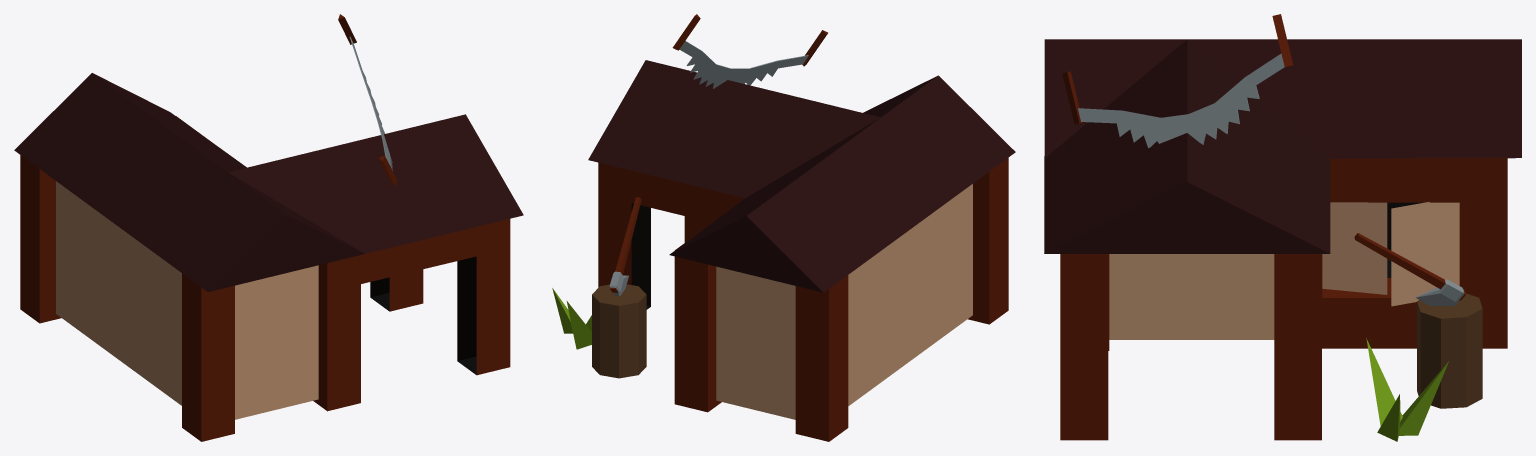
The model's file is Human-SuperSawmill.fbx.
3 views of the same model, side by side, from view 1: azimuth 30°, elevation 25°; view 2: azimuth 150°, elevation 25°; view 3: azimuth 270°, elevation 25° (orthographic). The views are drawn at different scales.
Parts seen in each view (by area): view 1: Human-SuperSawMill; view 2: Human-SuperSawMill; view 3: Human-SuperSawMill.
Boxes of the visible parts, x1,y1,x2,y2 form: Human-SuperSawMill: (14,14,523,441); Human-SuperSawMill: (552,14,1015,441); Human-SuperSawMill: (1044,14,1521,441).
Size of the model in its own units: 0.8615 by 0.895 by 0.7928.
